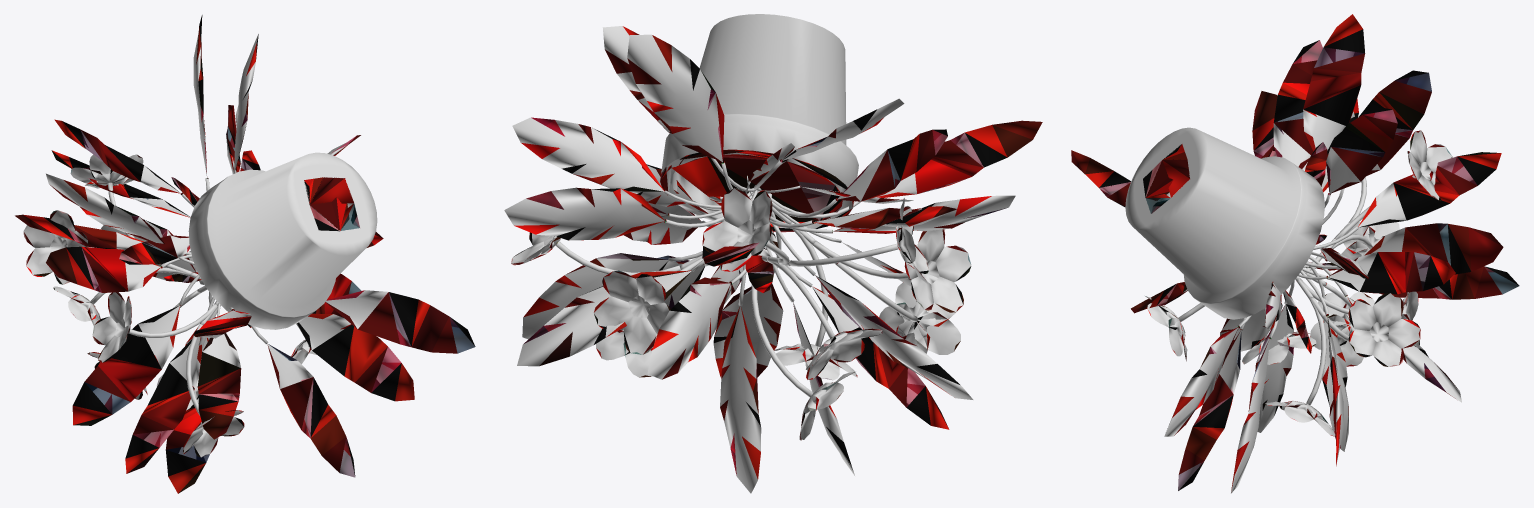
3 views of the same model, side by side, from view 1: azimuth 30°, elevation 25°; view 2: azimuth 150°, elevation 25°; view 3: azimuth 270°, elevation 25° (orthographic). The views are drawn at different scales.
Size of the model in its own units: 1.67 by 1.65 by 1.62.
